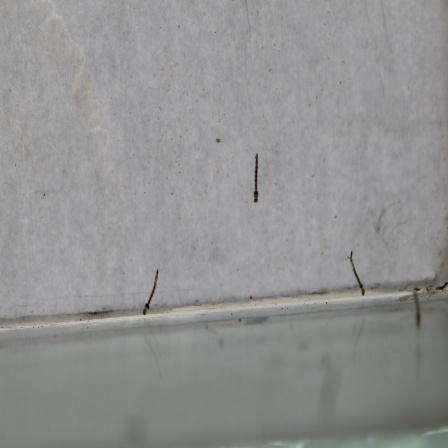Jentik-Nyamuk: (139, 266, 162, 318), (347, 249, 366, 298), (250, 150, 266, 207)
